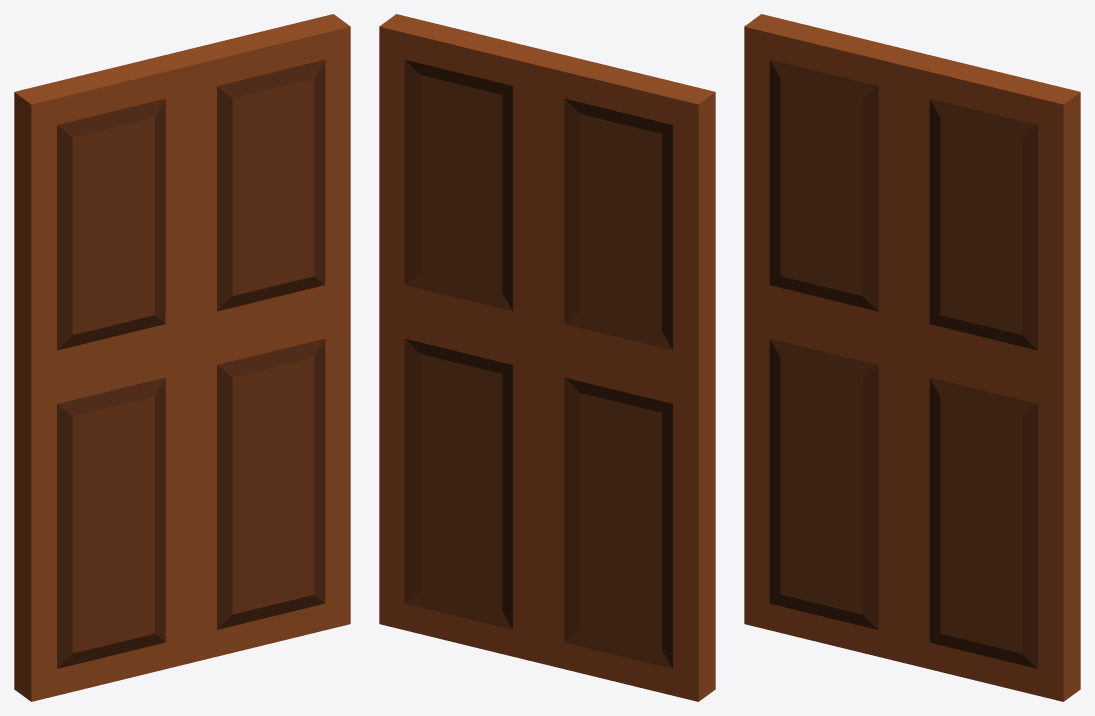
File: DoorA.fbx
3 views of the same model, side by side, from view 1: azimuth 30°, elevation 25°; view 2: azimuth 150°, elevation 25°; view 3: azimuth 330°, elevation 25° (orthographic).
Visible parts, largest first — view 1: DoorA; view 2: DoorA; view 3: DoorA.
Boxes of the visible parts, box(x1,y1,x2,y2) form: DoorA: box(14, 14, 350, 701); DoorA: box(379, 14, 715, 701); DoorA: box(744, 14, 1080, 701).
Bounding box in the file's own units: 140 × 250 × 14.98.
